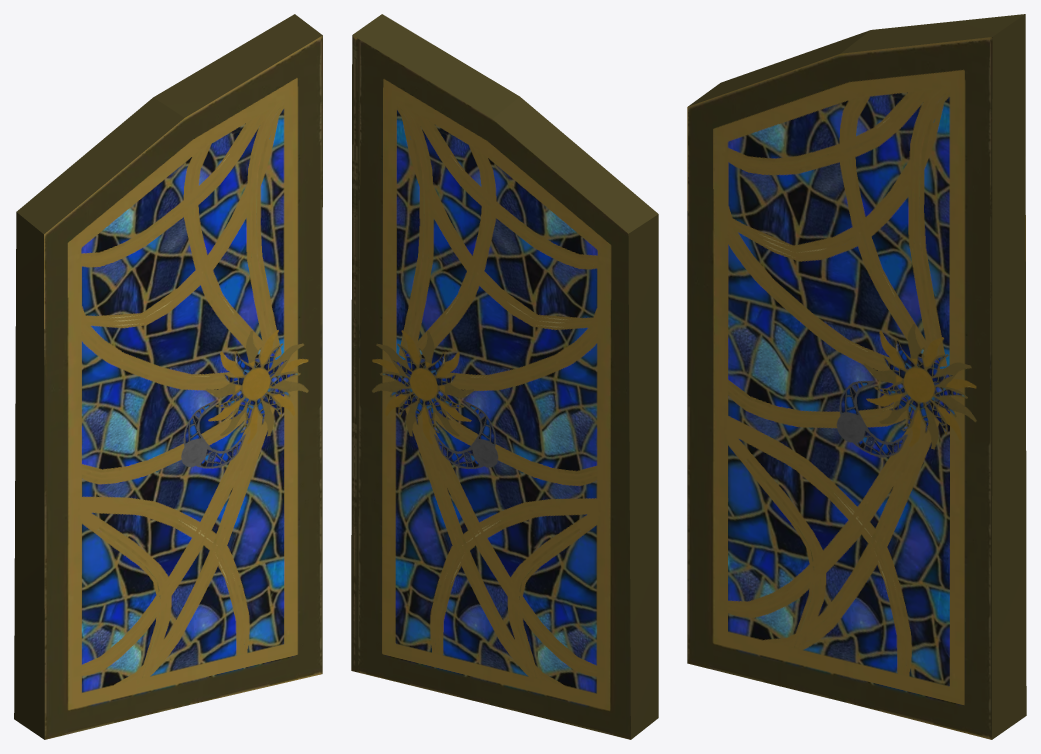
Rendered from doorRight.glb.
The picture shows the model from 3 angles, left to right: view 1: azimuth 30°, elevation 25°; view 2: azimuth 150°, elevation 25°; view 3: azimuth 330°, elevation 25°; orthographic projection. The views are drawn at different scales.
Visible parts, largest first — view 1: doorLP.002; view 2: doorLP.002; view 3: doorLP.002.
Boxes of the visible parts, <box> form: doorLP.002: <box>14,14,322,739</box>; doorLP.002: <box>351,14,658,739</box>; doorLP.002: <box>687,14,1026,739</box>.
Size of the model in its own units: 0.8523 by 1.85 by 0.1579.
Materials: 1 (1 with a texture image).
